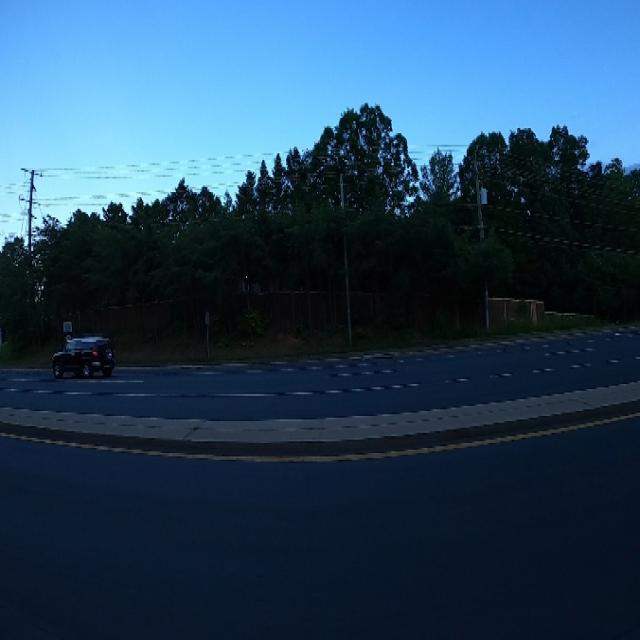car: (49, 329, 116, 381)
